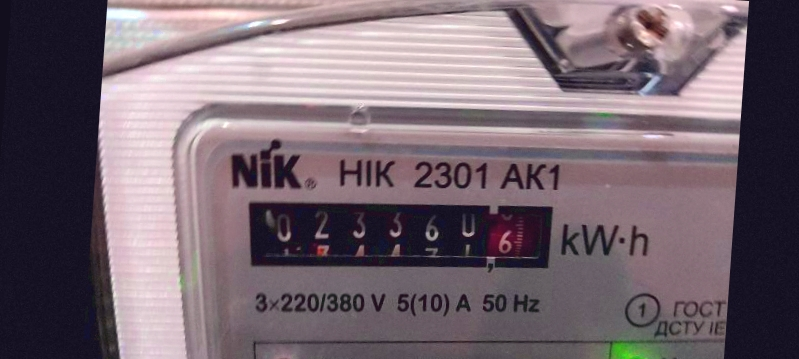0: (271, 209, 295, 244), (455, 207, 479, 240)
2: (310, 206, 332, 241)
3: (384, 205, 406, 239), (346, 208, 367, 240)
6: (493, 223, 517, 258), (419, 209, 443, 243)
screen: (227, 175, 571, 293)
